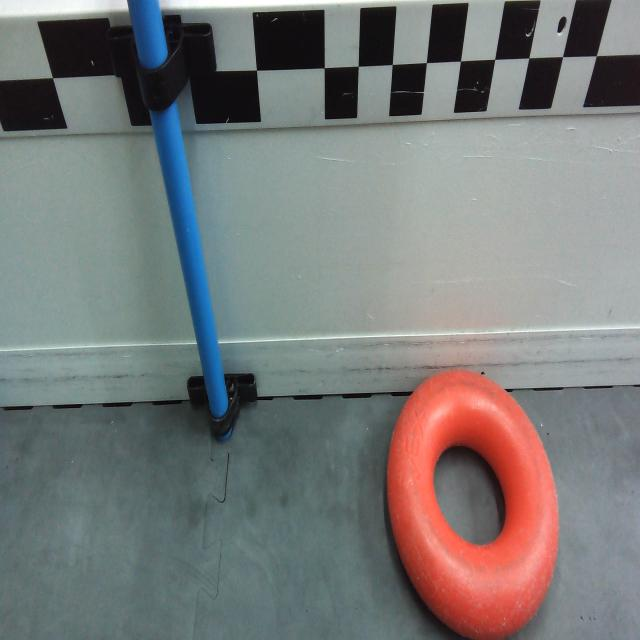Red-Ring: (387, 372, 561, 638)
